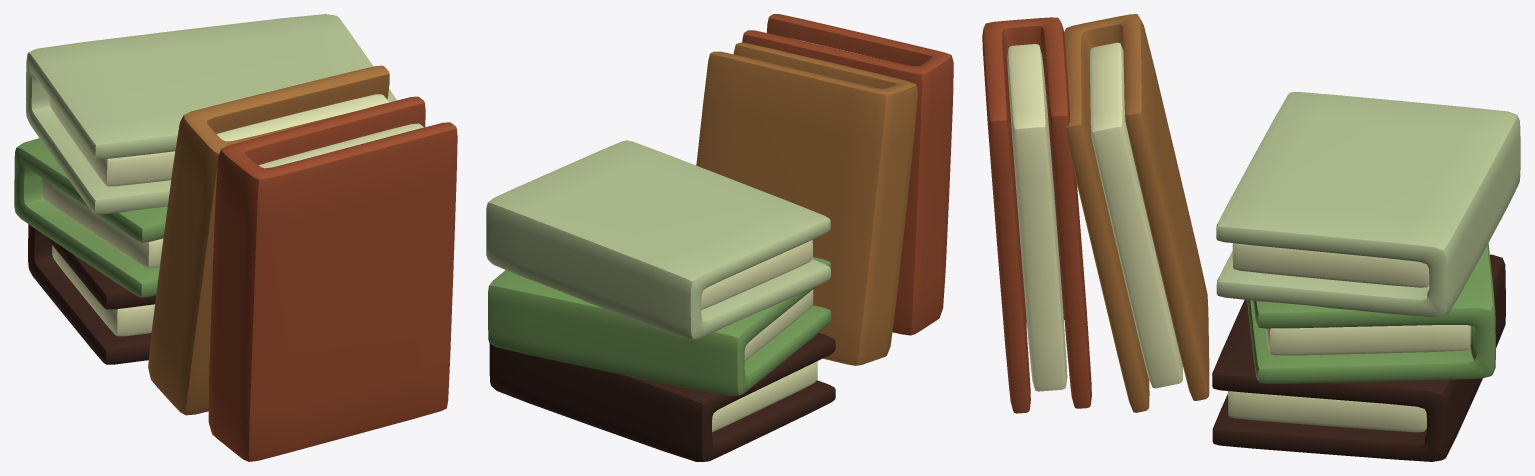
File: bookstack2.glb
3 renders of one model, left to right at view 1: azimuth 30°, elevation 25°; view 2: azimuth 150°, elevation 25°; view 3: azimuth 270°, elevation 25°, orthographic. The views are drawn at different scales.
Visible parts, largest first — view 1: Books; view 2: Books; view 3: Books.
Boxes of the visible parts, left/top/right/bottom form: Books: left=14, top=14, right=457, bottom=461; Books: left=486, top=14, right=953, bottom=461; Books: left=982, top=14, right=1520, bottom=461.
Bounding box in the file's own units: 0.8814 × 0.8029 × 1.28.
Materials: 1 (1 with a texture image).
